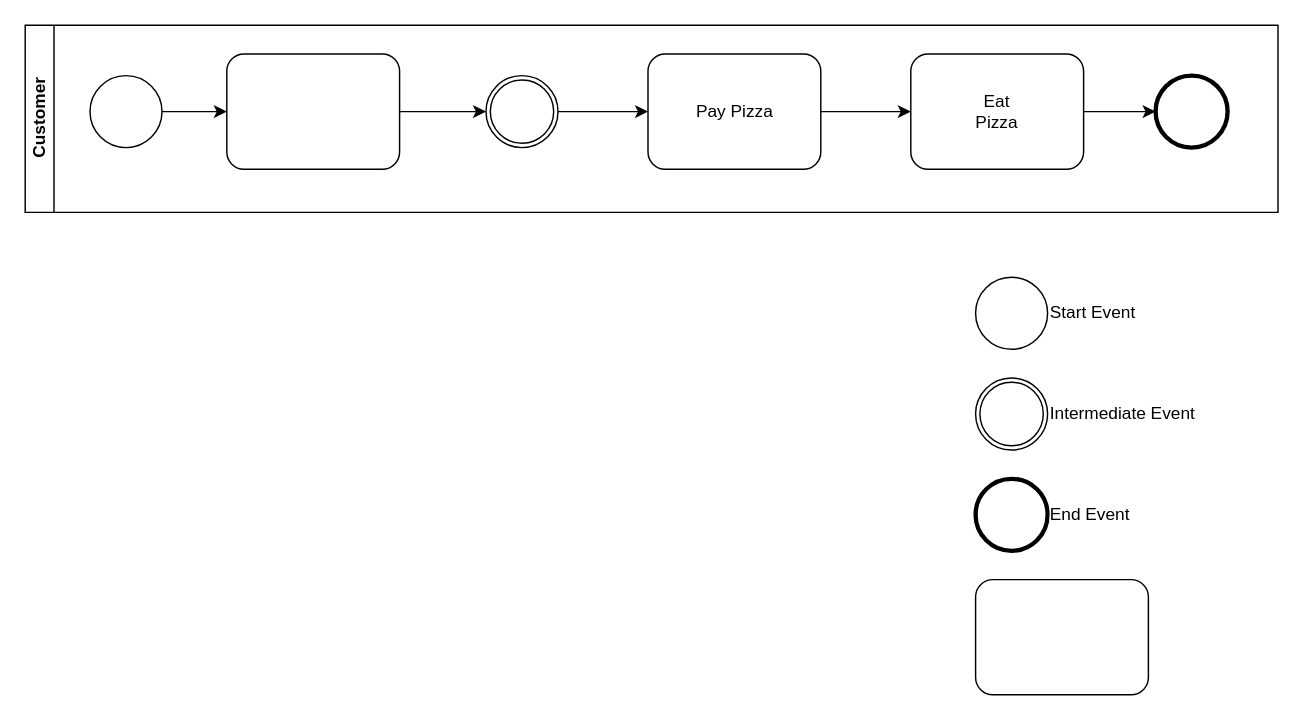
The diagram is 1303 pixels wide and 720 high, and some of its shapes have lost their labels. Here are the shapes that lost their labels. From the top down, the centre of each, then its label:
At point (312, 111): "Order Pizza".
At point (521, 111): "Receive Pizza".
At point (1061, 636): "Process".
